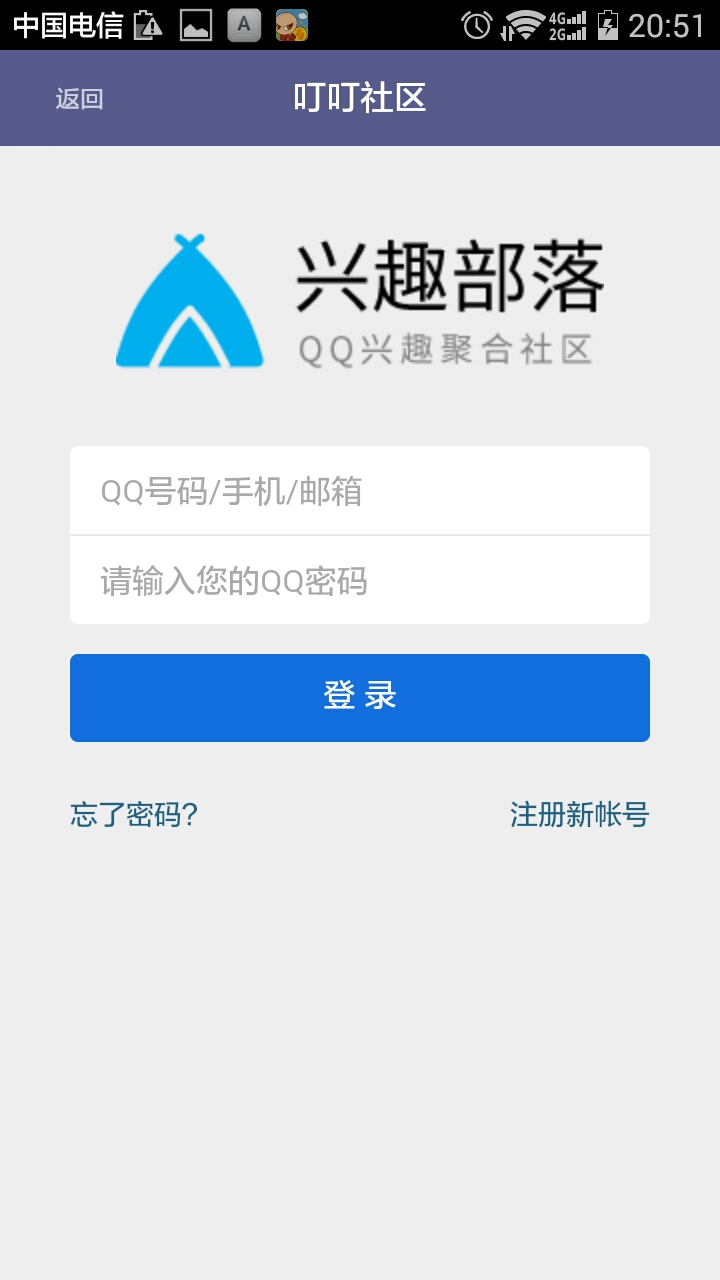button: (64, 646, 662, 750)
imgview: (89, 204, 285, 383)
textview: (60, 437, 659, 634), (270, 225, 636, 372)
